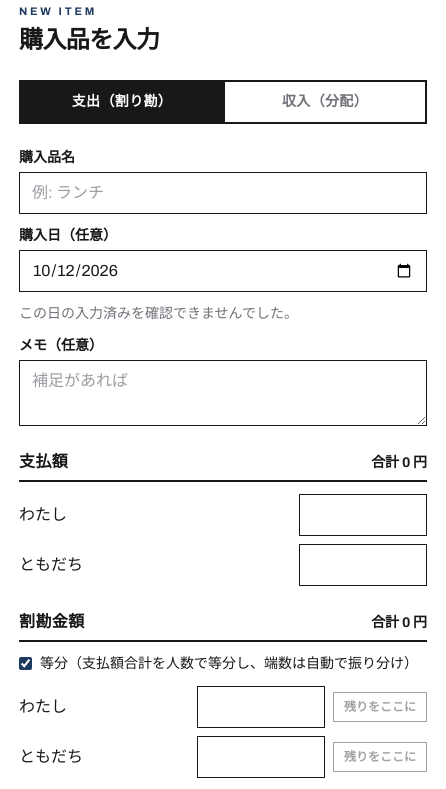
Scenario: 「残りをここに」で不足分が対象メンバーへ加算される
In the field labelled "購入品名": (223, 192) [19,172,427,214], type "ランチ"
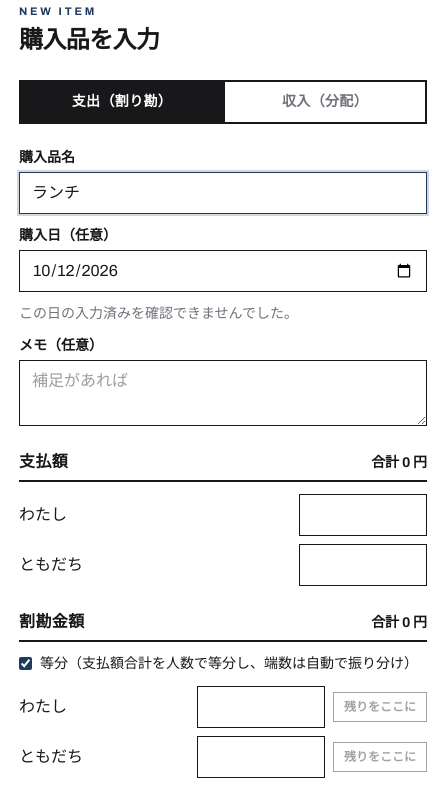
# 等分（デフォルト ON）を OFF にしてから支払額を入力し、割勘未入力（合計 0）の状態を作る。
Click the checkbox: (26, 664) [19,657,32,670]
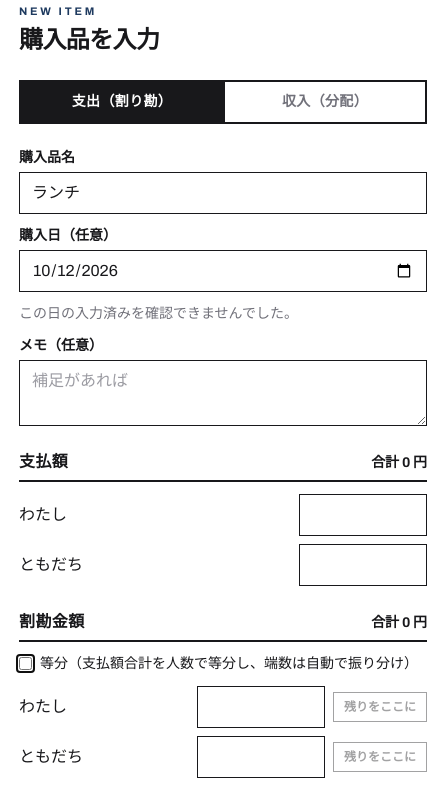
In the number field named "わたし の支払額": (363, 514) [299,494,427,536], type "1000"
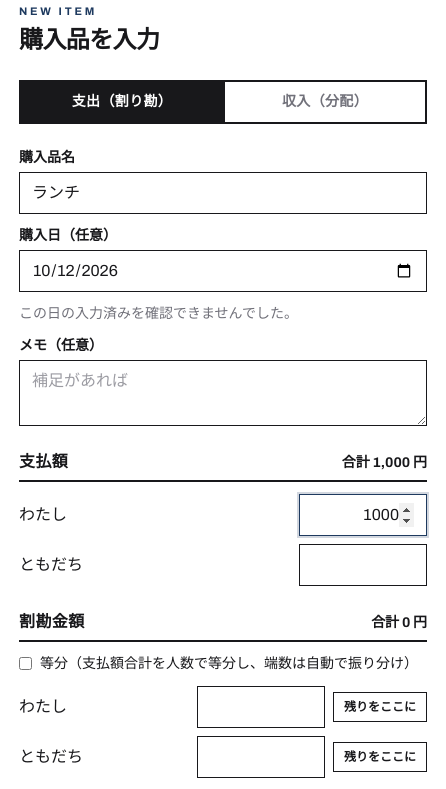
# 不足 1000 をわたしの行に加算する。
Click the 1st button "残りをここに": (380, 706) [333,692,427,722]
(page scrolled)
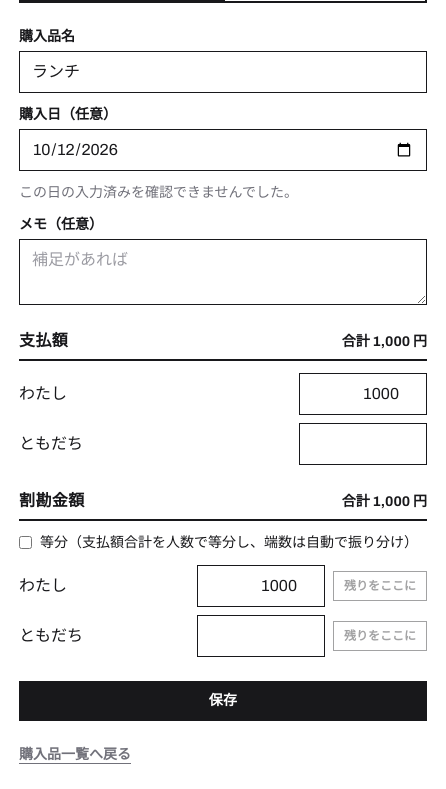
Now the number field named "わたし の割勘金額" holds "1000", box [197,564,325,606]
Now the button "保存" is enabled, box [19,680,427,720]
